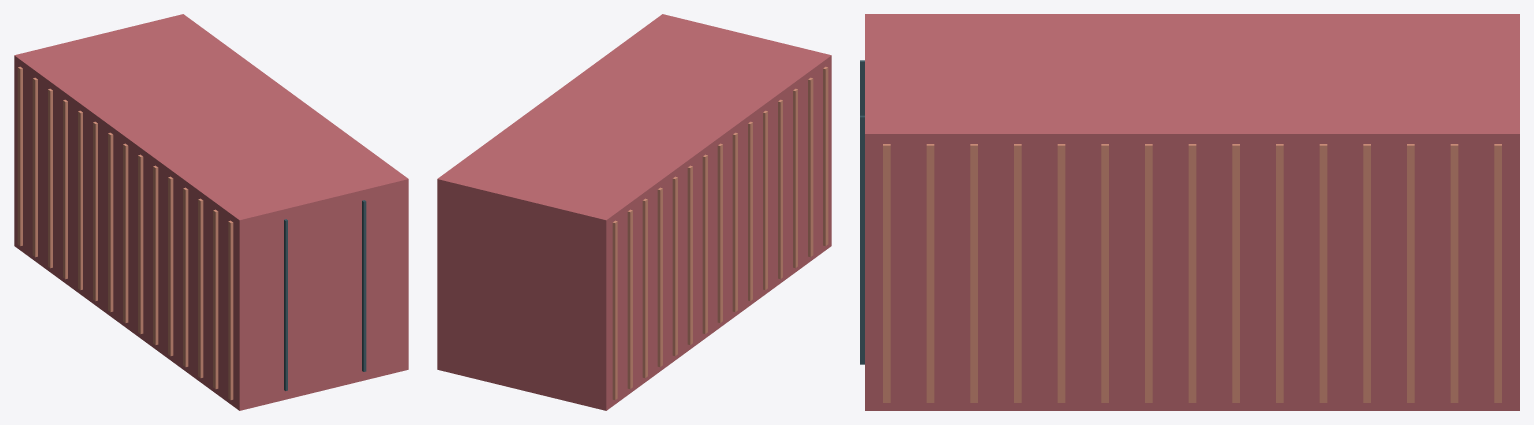
Rendered from container.obj.
The picture shows the model from 3 angles, left to right: view 1: azimuth 30°, elevation 25°; view 2: azimuth 150°, elevation 25°; view 3: azimuth 270°, elevation 25°; orthographic projection. The views are drawn at different scales.
Visible parts, largest first — view 1: container; view 2: container; view 3: container.
Boxes of the visible parts, box(x1,y1,x2,y2) form: container: box(14, 14, 408, 410); container: box(437, 14, 831, 410); container: box(860, 14, 1519, 410).
Bounding box in the file's own units: 2.68 × 2.8 × 6.05.
